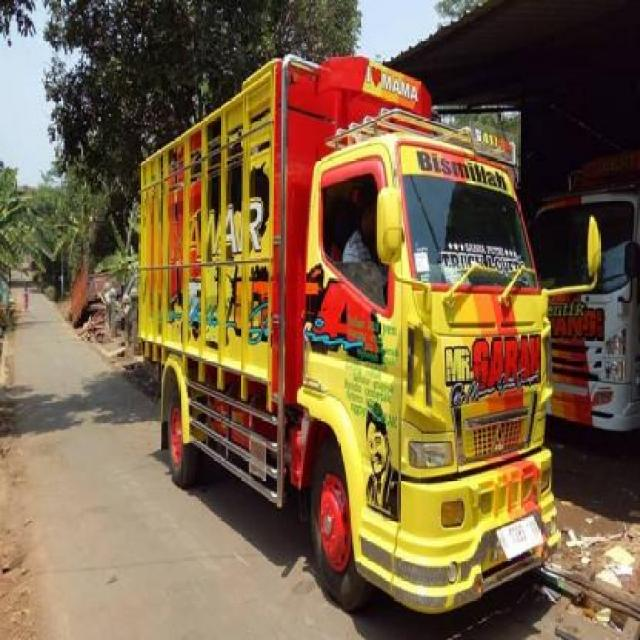truck: (136, 47, 601, 615)
